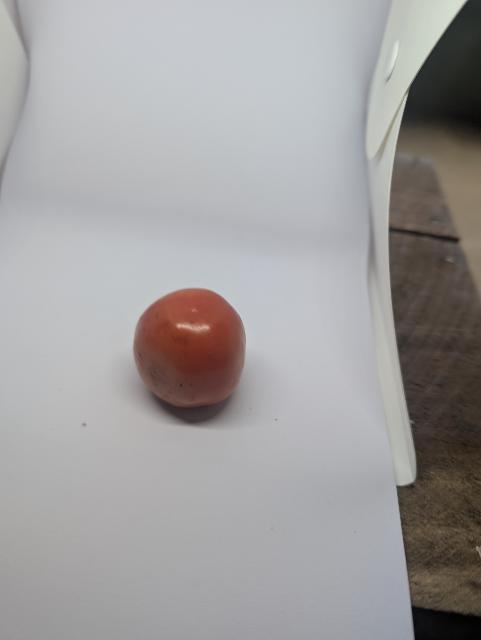red: (121, 280, 265, 420)
